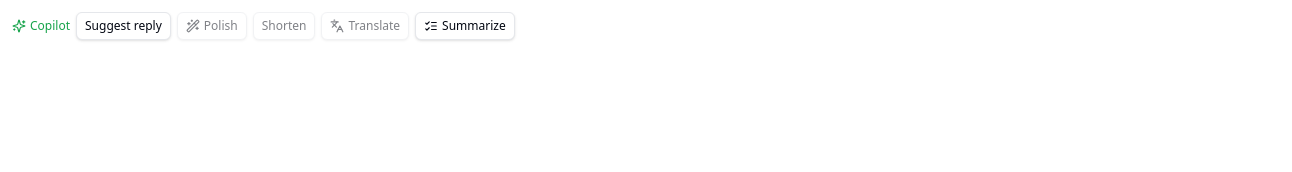
Test: AiCopilotBar › shows a dismissible summary panel
Click the button "Summarize": [465, 26] box [415,12,515,40]
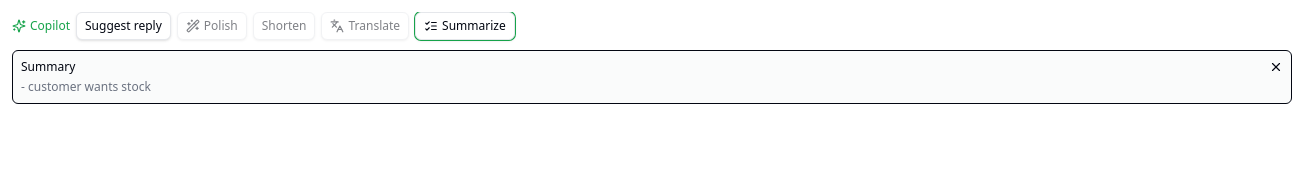
Expected: the element with test id "copilot-summary" shows "customer wants stock", [21,78,151,95]
Click the button named "Dismiss summary": [1276, 67] box [1269,60,1283,74]
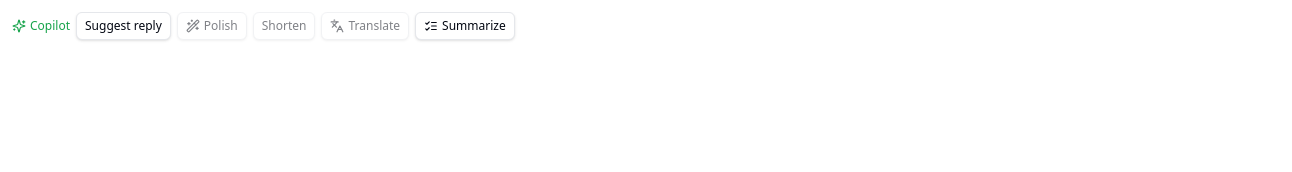
Expected: the element with test id "copilot-summary" is gone
